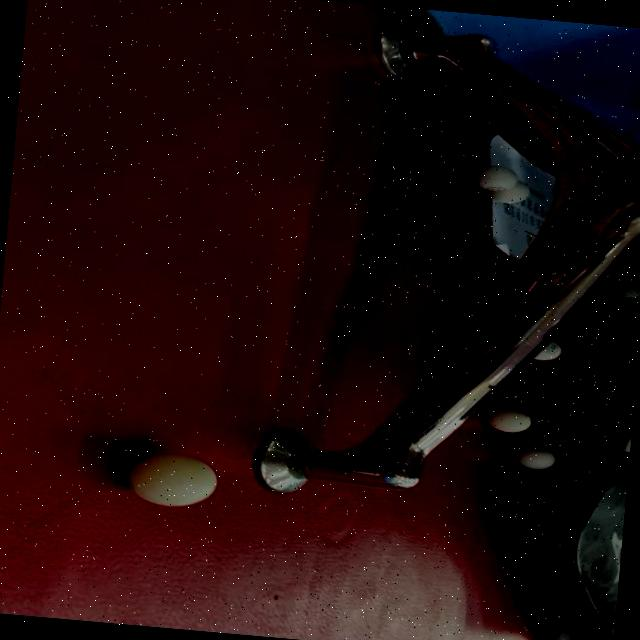ping-pong-ball: (120, 448, 223, 514), (476, 402, 536, 437), (468, 162, 524, 198), (508, 440, 562, 474)
